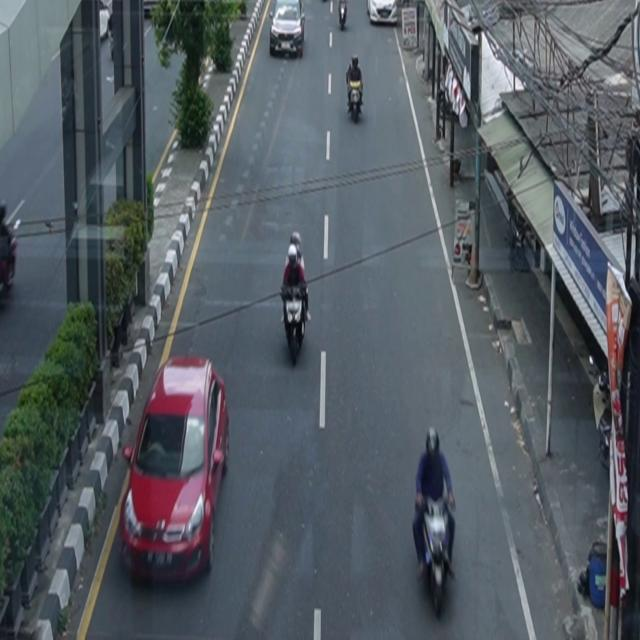car: (121, 356, 231, 587), (270, 1, 306, 59), (368, 1, 399, 26)
